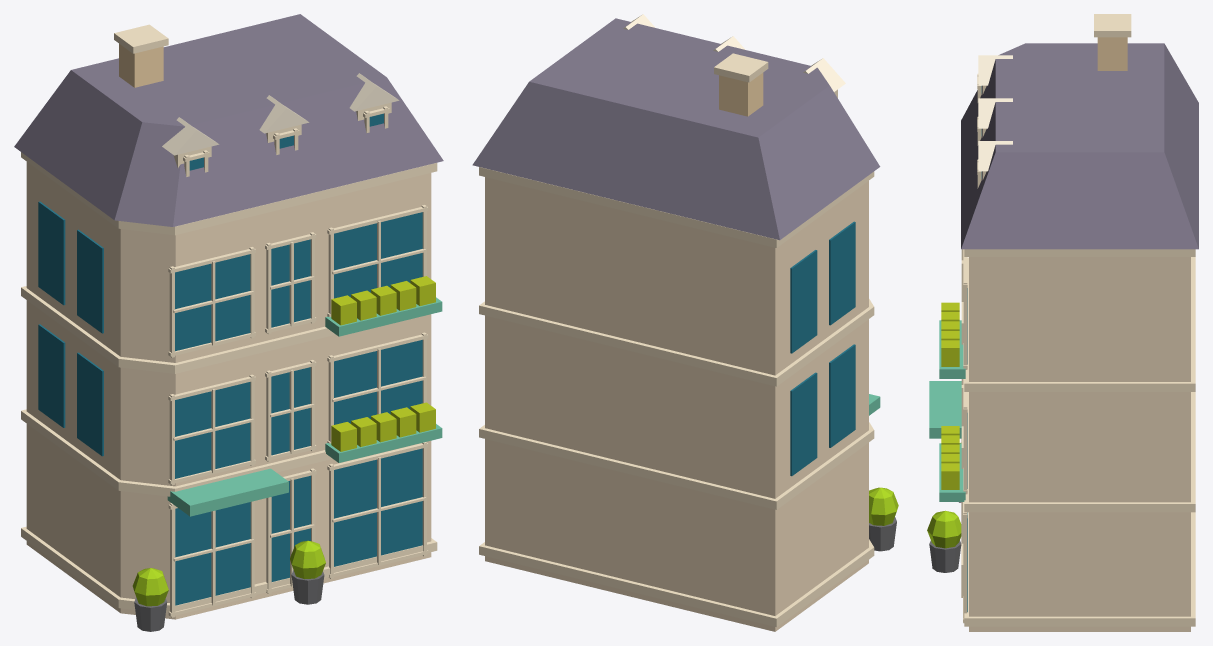
The model's file is Building_Cream_Corner_Shop.glb.
The picture shows the model from 3 angles, left to right: view 1: azimuth 30°, elevation 25°; view 2: azimuth 150°, elevation 25°; view 3: azimuth 270°, elevation 25°; orthographic projection. The views are drawn at different scales.
Visible parts, largest first — view 1: Building_Cream_Corner_Shop; view 2: Building_Cream_Corner_Shop; view 3: Building_Cream_Corner_Shop.
Part boxes in pixels (x1,y1,x2,y2): Building_Cream_Corner_Shop: [14, 14, 443, 631]; Building_Cream_Corner_Shop: [472, 14, 898, 631]; Building_Cream_Corner_Shop: [927, 14, 1198, 631].
Size of the model in its own units: 5.3 by 8.56 by 4.16.
